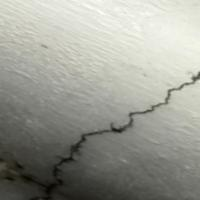crack: (28, 77, 199, 199)
